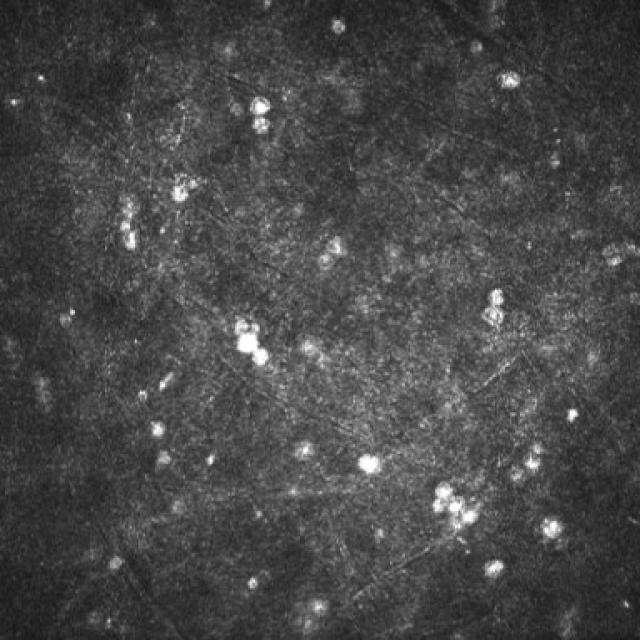anomalie: (289, 438, 322, 468), (115, 190, 144, 222), (295, 334, 328, 362), (493, 66, 523, 94), (355, 451, 386, 478), (502, 461, 530, 490), (304, 594, 335, 620), (540, 515, 568, 543), (324, 236, 354, 261), (481, 557, 508, 584), (479, 304, 507, 330), (234, 330, 262, 356), (119, 226, 143, 256), (152, 449, 176, 478), (103, 552, 129, 577), (249, 114, 276, 138), (432, 479, 457, 504), (248, 94, 274, 118), (168, 179, 191, 206), (147, 418, 171, 443), (444, 494, 469, 518), (314, 251, 337, 275), (458, 506, 482, 529), (249, 346, 272, 370), (466, 35, 488, 60), (521, 450, 543, 475), (485, 285, 508, 307), (232, 316, 251, 340), (563, 406, 583, 428), (329, 16, 348, 37), (530, 439, 548, 459), (430, 497, 447, 517), (245, 576, 262, 595)
